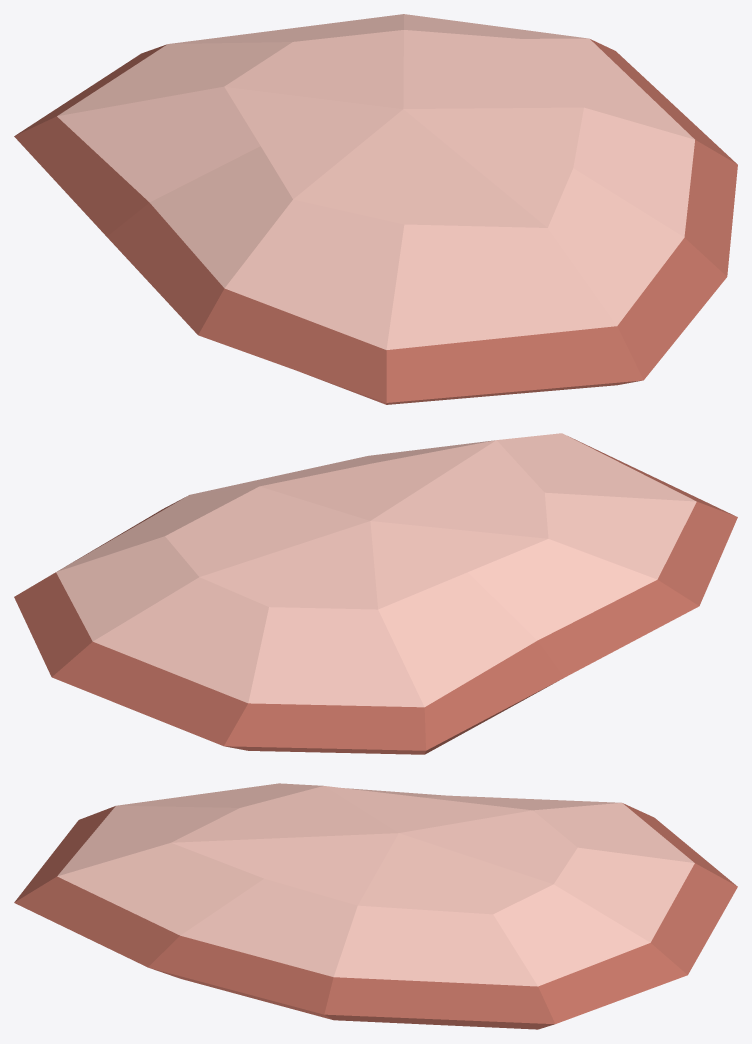
Rendered from Feuillage 014.fbx.
The picture shows the model from 3 angles, top to bottom: view 1: azimuth 30°, elevation 25°; view 2: azimuth 150°, elevation 25°; view 3: azimuth 270°, elevation 25°; orthographic projection. The views are drawn at different scales.
Parts seen in each view (by area): view 1: Feuillage 014; view 2: Feuillage 014; view 3: Feuillage 014.
Boxes of the visible parts, bbox=[...] form: Feuillage 014: bbox=[14, 14, 737, 404]; Feuillage 014: bbox=[14, 433, 737, 754]; Feuillage 014: bbox=[14, 783, 737, 1029].
Bounding box in the file's own units: 75.39 × 16.48 × 99.48.
